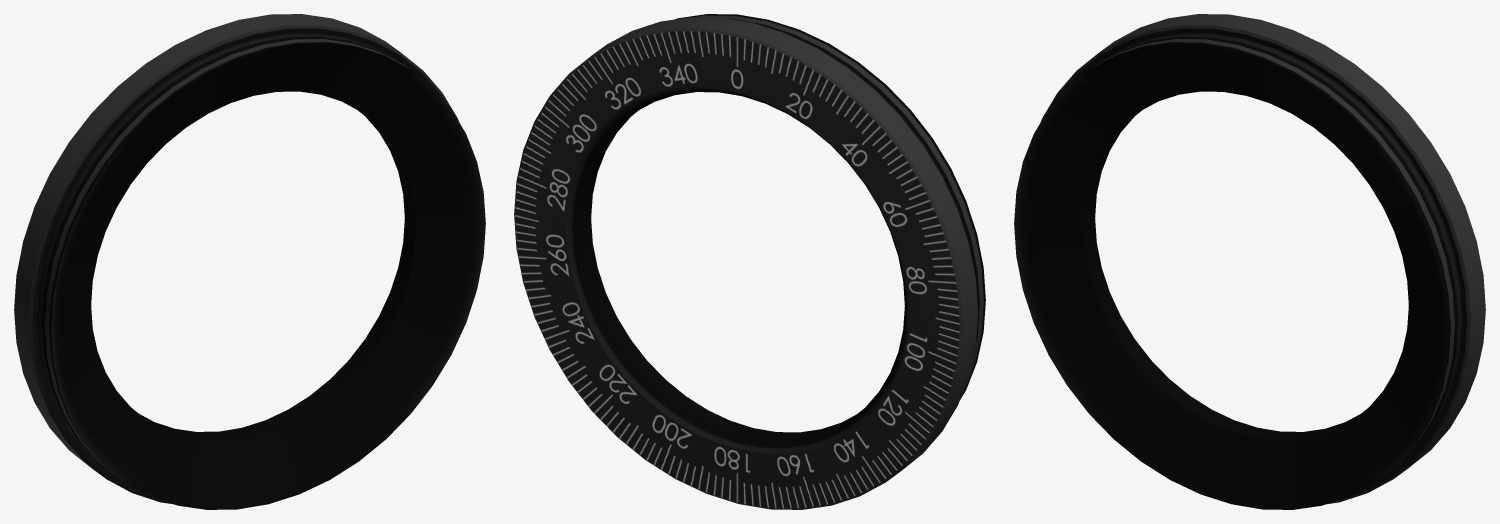
The model's file is RSP1D_Justier.obj.
The picture shows the model from 3 angles, left to right: view 1: azimuth 30°, elevation 25°; view 2: azimuth 150°, elevation 25°; view 3: azimuth 330°, elevation 25°; orthographic projection.
Parts seen in each view (by area): view 1: polySurface1300 pCylinder133; view 2: polySurface1300 pCylinder133; view 3: polySurface1300 pCylinder133.
Part boxes in pixels (<box>): polySurface1300 pCylinder133: <box>14,14,485,509</box>; polySurface1300 pCylinder133: <box>514,14,985,509</box>; polySurface1300 pCylinder133: <box>1014,14,1485,509</box>.
Size of the model in its own units: 52.9 by 52.9 by 6.34.
Materials: 1 (1 with a texture image).
